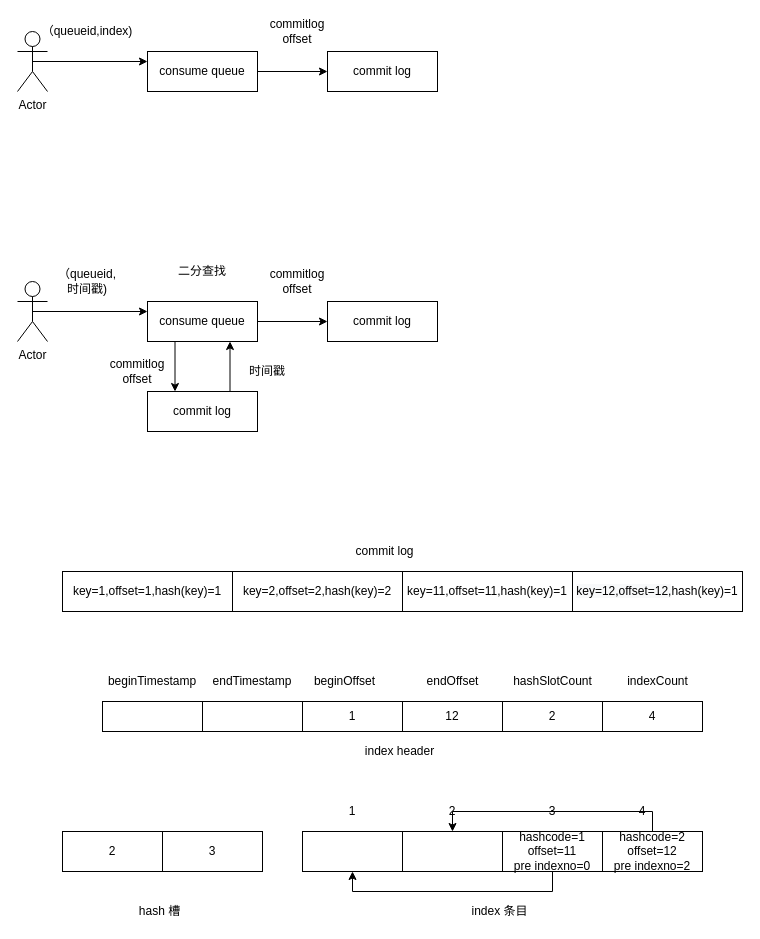
This 760x939 diagram has some shape labels left out. Each missing label, with the centre of its shape:
"hashcode=1 offset=1 pre indexno=0" belongs at pixel 352 851.
"hashcode=2 offset=2 pre indexno=1" belongs at pixel 452 851.
